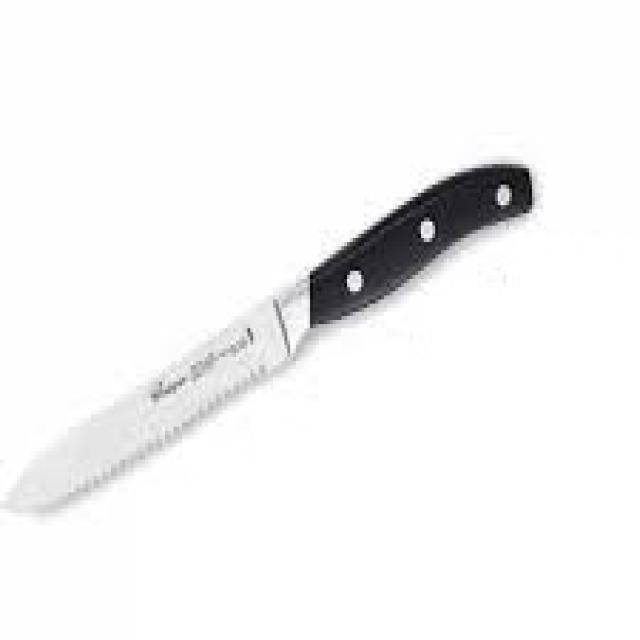knife: (2, 153, 543, 529)
